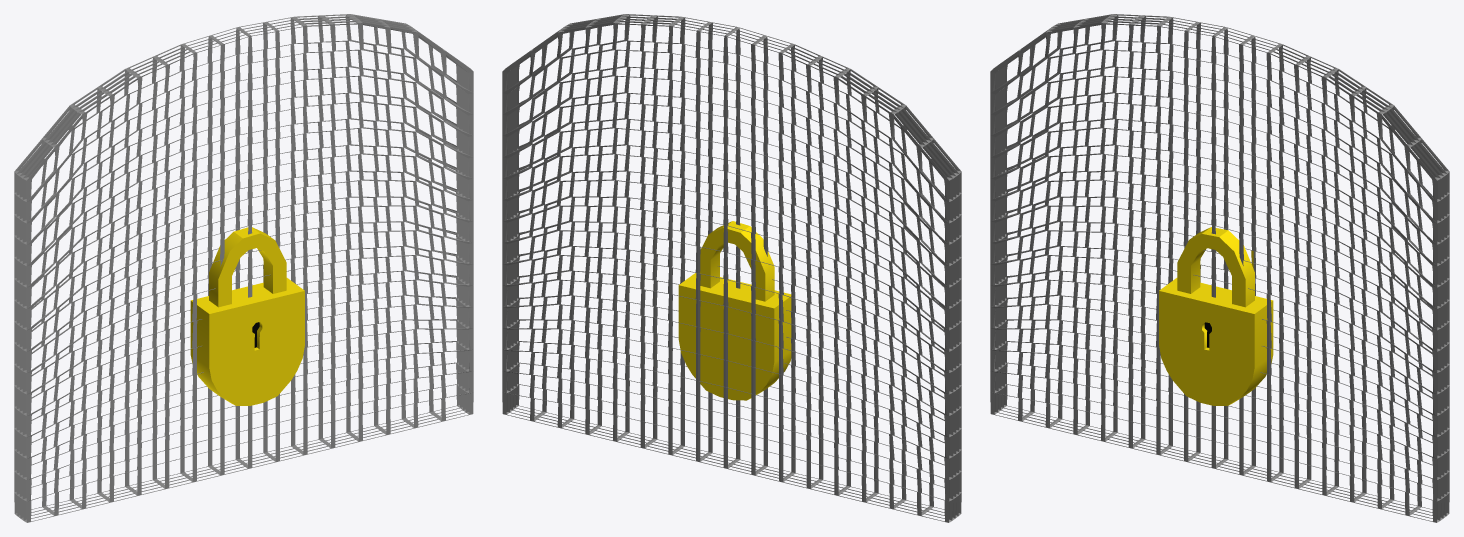
Rendered from Gate_Door.fbx.
3 views of the same model, side by side, from view 1: azimuth 30°, elevation 25°; view 2: azimuth 150°, elevation 25°; view 3: azimuth 330°, elevation 25° (orthographic).
Parts seen in each view (by area): view 1: Gate_Door; view 2: Gate_Door; view 3: Gate_Door.
Boxes of the visible parts, x1,y1,x2,y2 form: Gate_Door: (14, 14, 473, 522); Gate_Door: (502, 14, 961, 522); Gate_Door: (990, 14, 1449, 522).
Bounding box in the file's own units: 1785 × 1644 × 134.
